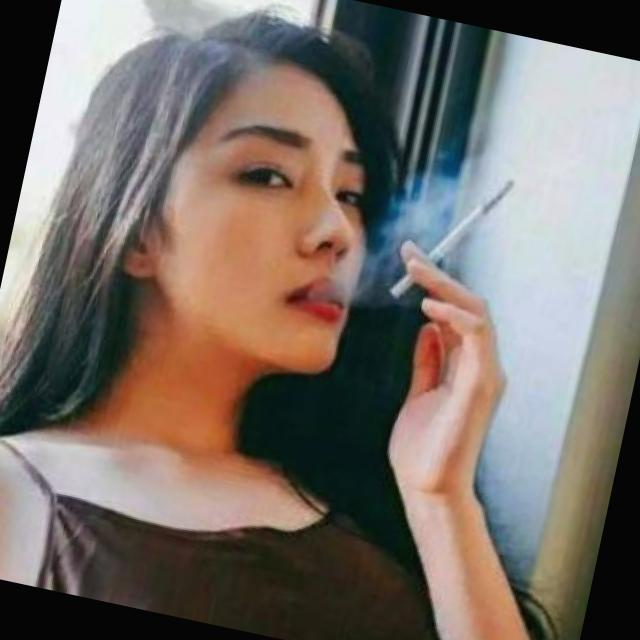smoke: (382, 154, 518, 325)
